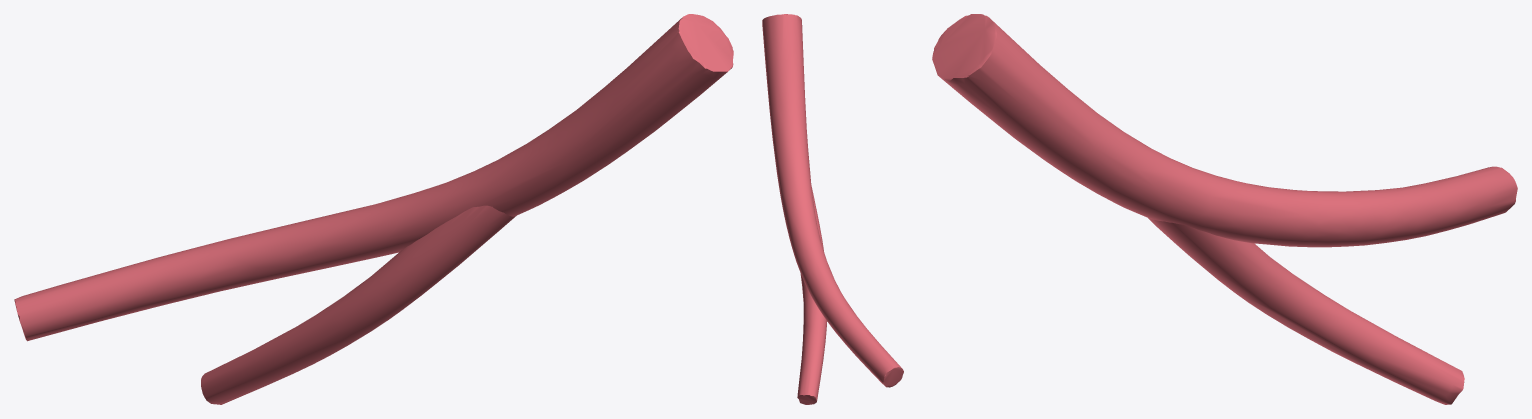
File: fma68738_cx190.glb
The picture shows the model from 3 angles, left to right: view 1: azimuth 30°, elevation 25°; view 2: azimuth 150°, elevation 25°; view 3: azimuth 270°, elevation 25°; orthographic projection. The views are drawn at different scales.
Visible parts, largest first — view 1: FMA68738_CX190; view 2: FMA68738_CX190; view 3: FMA68738_CX190.
Boxes of the visible parts, box(x1,y1,x2,y2) form: FMA68738_CX190: box(14, 14, 733, 404); FMA68738_CX190: box(762, 14, 903, 404); FMA68738_CX190: box(932, 14, 1517, 404).
Size of the model in its own units: 0.0294 by 0.0281 by 0.0286.
